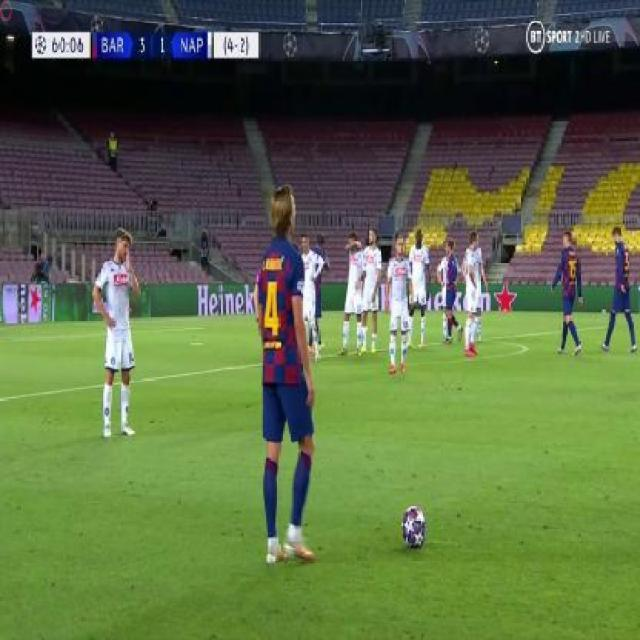ball: (397, 496, 431, 553)
player: (242, 166, 327, 566), (88, 218, 144, 447), (600, 222, 637, 361), (383, 226, 414, 379), (551, 226, 584, 360), (339, 227, 367, 360), (458, 229, 487, 351), (359, 219, 384, 356), (302, 231, 328, 356), (436, 231, 464, 347), (407, 222, 432, 350), (107, 128, 118, 173)
